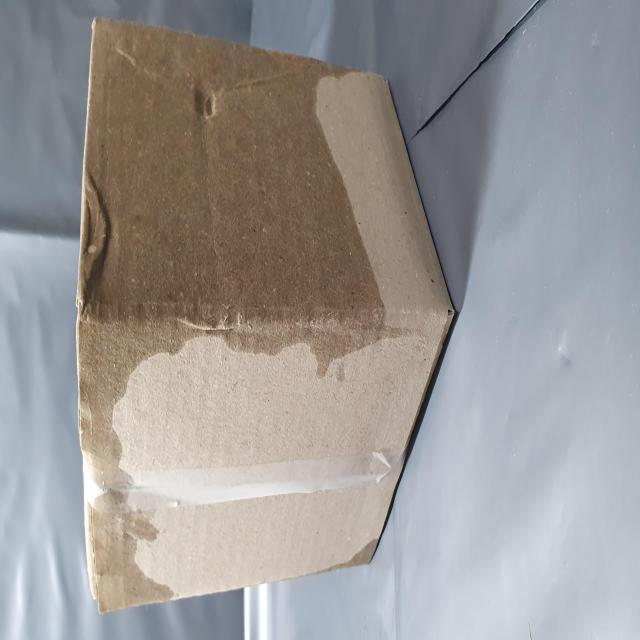wet: (114, 124, 330, 640), (16, 148, 179, 303)
